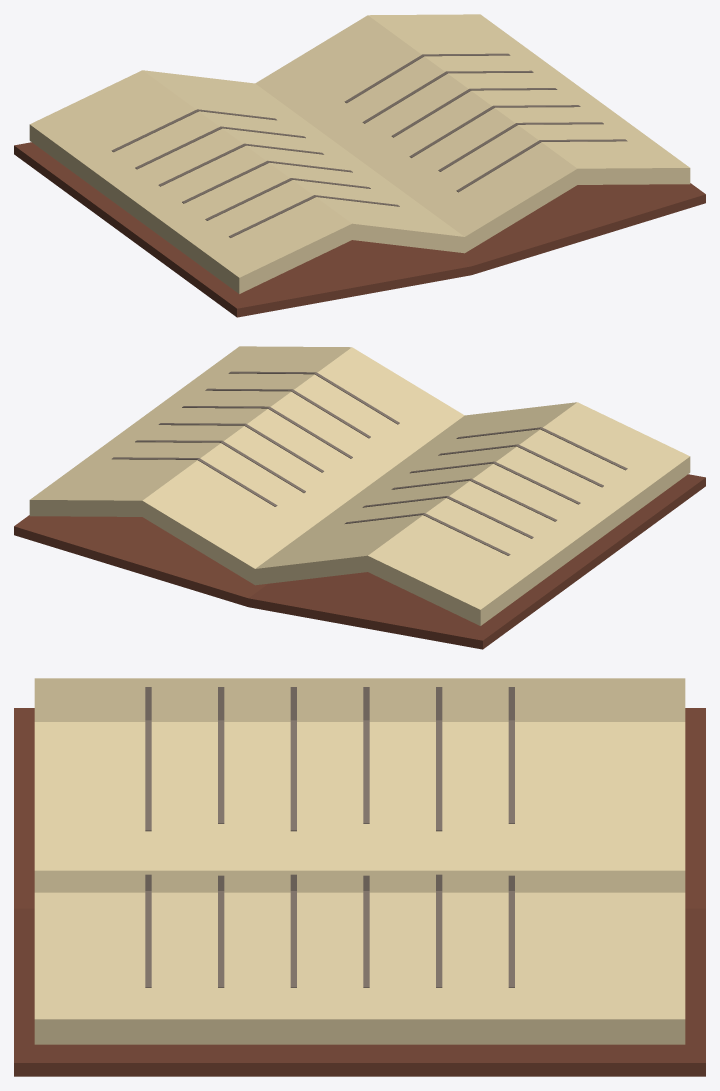
Rendered from open_book_02.glb.
The picture shows the model from 3 angles, top to bottom: view 1: azimuth 30°, elevation 25°; view 2: azimuth 150°, elevation 25°; view 3: azimuth 270°, elevation 25°; orthographic projection. The views are drawn at different scales.
Visible parts, largest first — view 1: PageBlock_1, PageBlock__1, Cover__1, Cover_1; view 2: PageBlock_1, PageBlock__1, Cover__1, Cover_1; view 3: PageBlock__1, PageBlock_1, Cover_1, Cover__1, Line__1_0_1, Line__1_2_1, Line__1_4_1, Line__1_1_1, Line__1_3_1, Line__1_5_1, Line_1_0_0, Line_1_1_0 (+4 smaller).
Part boxes in pixels (<box>): PageBlock_1: <box>255,14,690,252</box>; PageBlock__1: <box>29,70,464,293</box>; Cover__1: <box>14,142,471,317</box>; Cover_1: <box>452,183,705,274</box>; PageBlock_1: <box>29,346,464,584</box>; PageBlock__1: <box>255,402,690,625</box>; Cover__1: <box>248,474,705,649</box>; Cover_1: <box>14,515,267,606</box>; PageBlock__1: <box>34,678,685,870</box>; PageBlock_1: <box>34,870,685,1044</box>; Cover_1: <box>14,908,705,1076</box>; Cover__1: <box>14,708,705,908</box>; Line__1_0_1: <box>145,720,151,831</box>; Line__1_2_1: <box>290,720,296,831</box>; Line__1_4_1: <box>436,720,442,831</box>; Line__1_1_1: <box>218,720,224,823</box>; Line__1_3_1: <box>363,720,369,823</box>; Line__1_5_1: <box>508,720,514,823</box>; Line_1_0_0: <box>145,891,151,987</box>; Line_1_1_0: <box>218,891,224,987</box>.
Bounding box in the file's own units: 0.364 × 0.0558 × 0.3.
